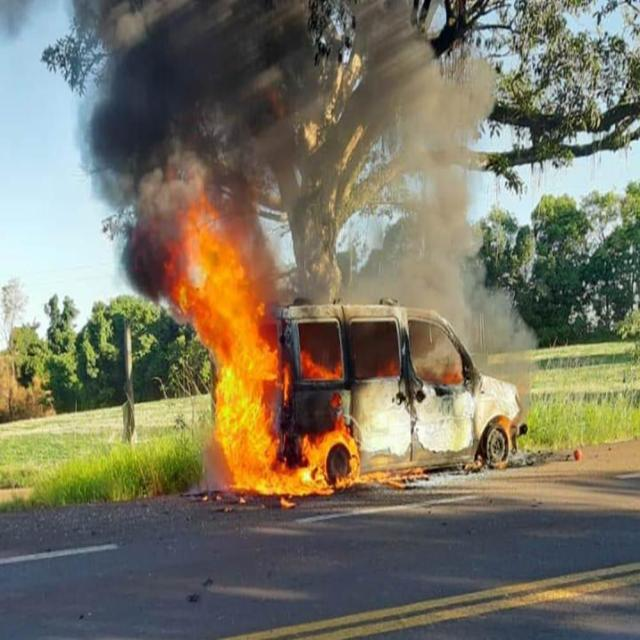fire: (149, 204, 354, 491)
